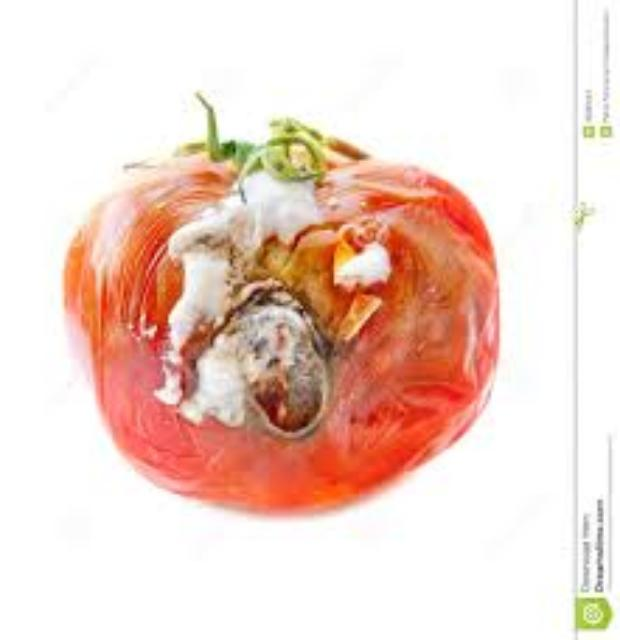defect: (58, 92, 507, 519)
